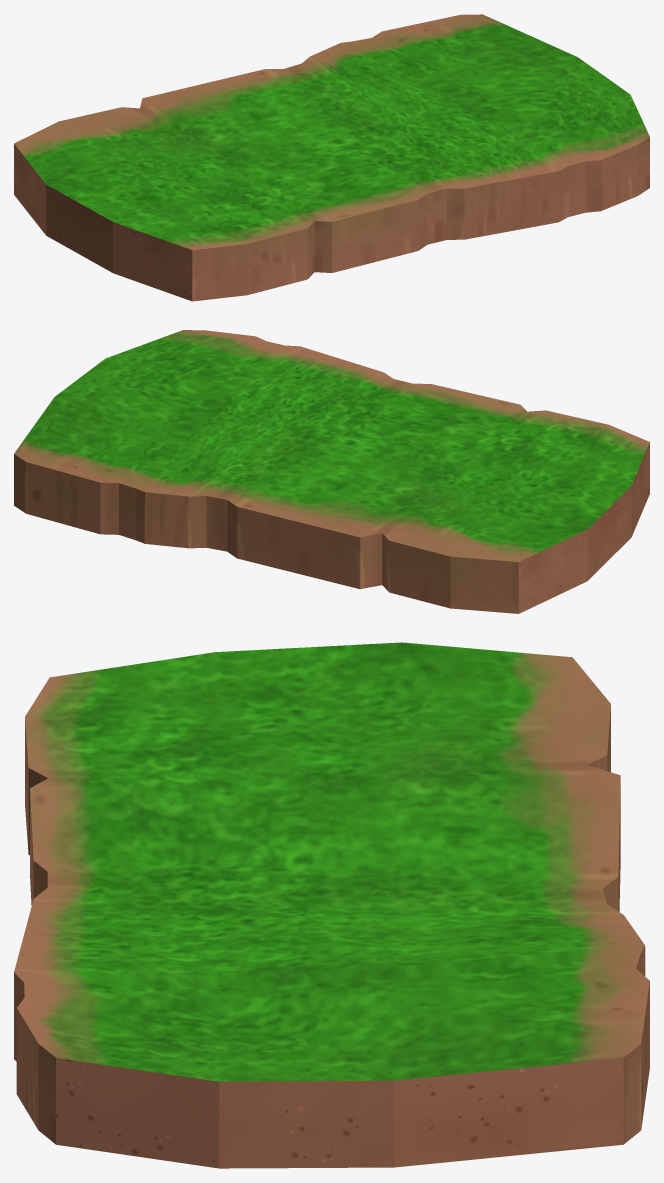
File: ground_short01.fbx
The picture shows the model from 3 angles, top to bottom: view 1: azimuth 30°, elevation 25°; view 2: azimuth 150°, elevation 25°; view 3: azimuth 270°, elevation 25°; orthographic projection. The views are drawn at different scales.
Visible parts, largest first — view 1: ground_short01; view 2: ground_short01; view 3: ground_short01.
Boxes of the visible parts, x1,y1,x2,y2 form: ground_short01: (14,14,649,301); ground_short01: (14,330,649,613); ground_short01: (14,642,649,1168).
Bounding box in the file's own units: 2.88 × 1.76 × 0.2664.
